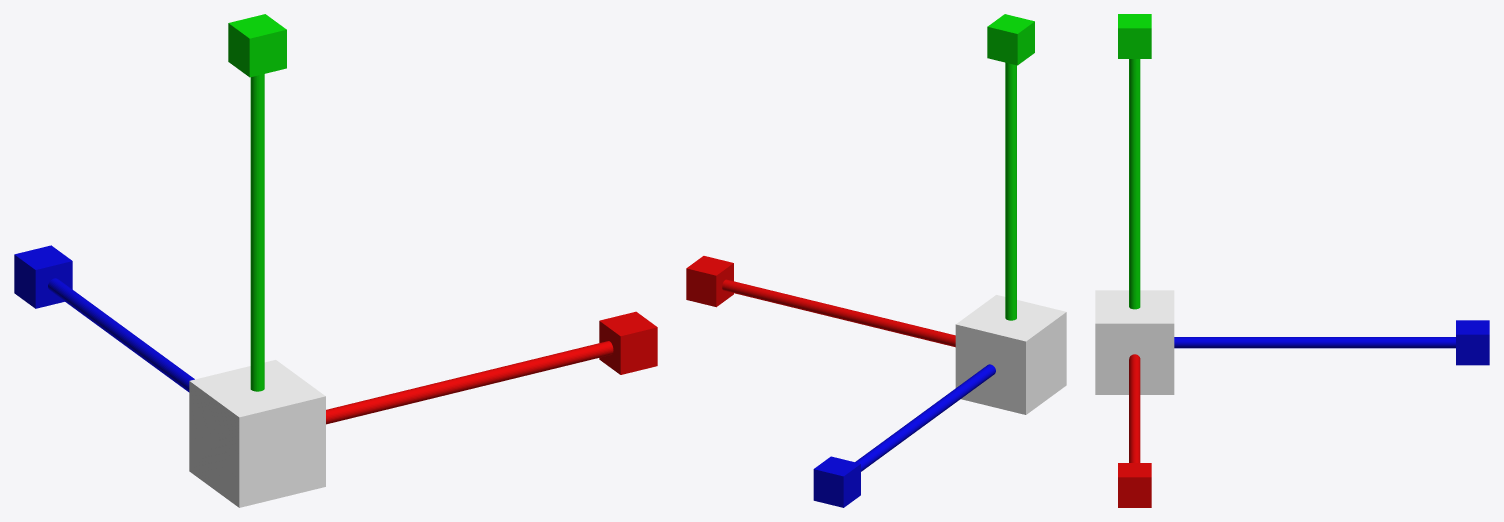
Rendered from scale_gizmo.fbx.
3 views of the same model, side by side, from view 1: azimuth 30°, elevation 25°; view 2: azimuth 150°, elevation 25°; view 3: azimuth 270°, elevation 25° (orthographic). The views are drawn at different scales.
Parts seen in each view (by area): view 1: center_cube, y_cylinder, x_cylinder, y_cube, x_cube, z_cube, z_cylinder; view 2: center_cube, y_cylinder, x_cylinder, y_cube, z_cube, z_cylinder, x_cube; view 3: center_cube, z_cylinder, y_cylinder, z_cube, x_cube, y_cube, x_cylinder.
Boxes of the visible parts, box(x1,y1,x2,y2) form: center_cube: box(189, 360, 325, 507); y_cylinder: box(250, 74, 264, 391); x_cylinder: box(326, 341, 613, 424); y_cube: box(228, 14, 286, 77); x_cube: box(599, 311, 657, 374); z_cube: box(14, 245, 72, 308); z_cylinder: box(48, 278, 194, 392); center_cube: box(955, 295, 1066, 414); y_cylinder: box(1005, 62, 1016, 320); x_cylinder: box(722, 279, 955, 347); y_cube: box(987, 14, 1034, 65); z_cube: box(813, 456, 860, 507); z_cylinder: box(855, 364, 995, 471); x_cube: box(686, 256, 733, 307); center_cube: box(1095, 290, 1174, 394); z_cylinder: box(1174, 337, 1455, 348); y_cylinder: box(1129, 59, 1140, 309); z_cube: box(1456, 320, 1489, 365); x_cube: box(1118, 463, 1151, 507); y_cube: box(1118, 14, 1151, 58); x_cylinder: box(1129, 354, 1140, 462).
Size of the model in its own units: 350 by 350 by 350.
